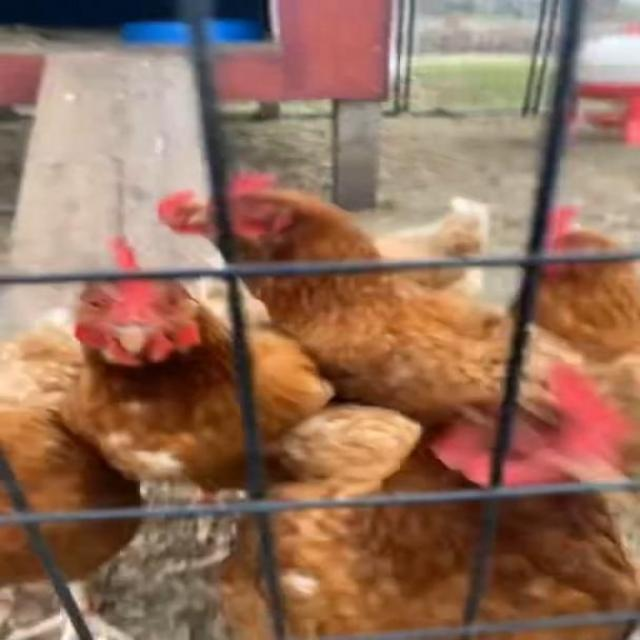Chicken: (210, 360, 640, 640), (185, 165, 640, 417), (57, 237, 335, 559), (0, 308, 145, 639), (154, 189, 491, 293), (514, 205, 640, 362)
